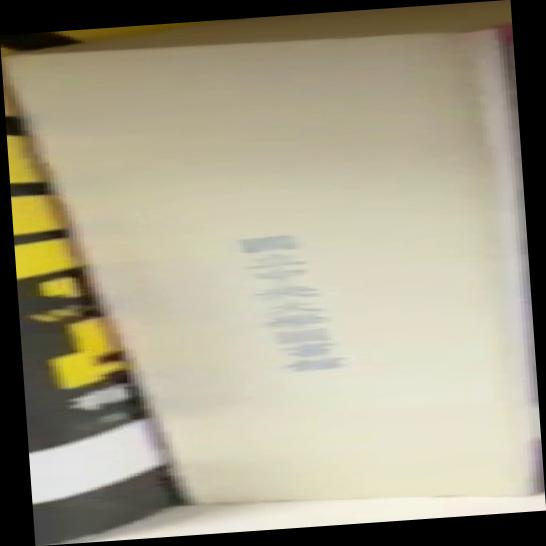backward: (1, 1, 546, 546)
